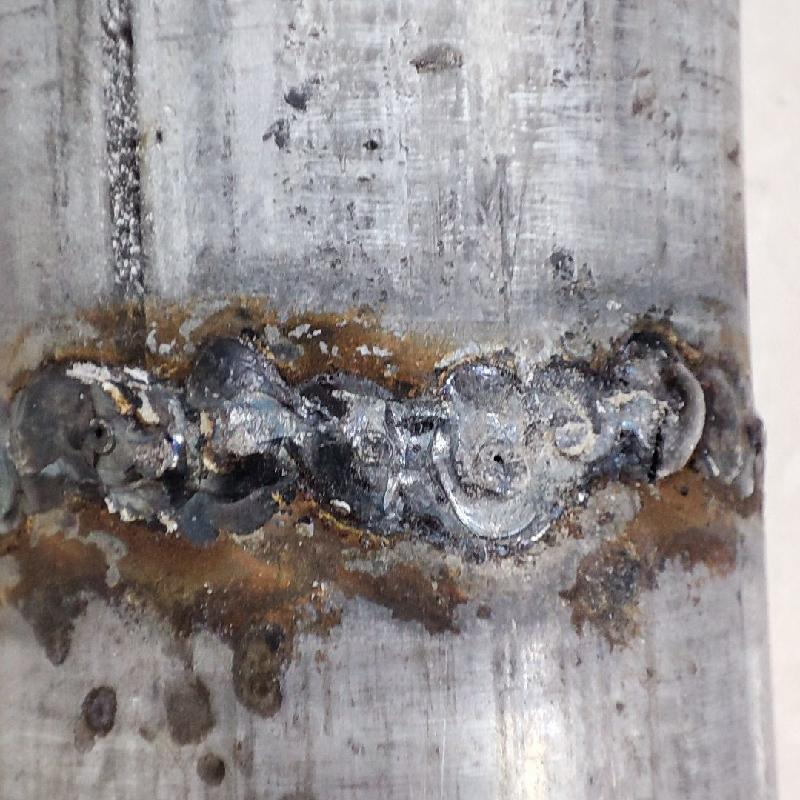Not_fully_soldered: (418, 356, 619, 559)
Surface_pores: (471, 439, 522, 485), (81, 411, 129, 457)
wrong_size: (619, 332, 774, 510)
